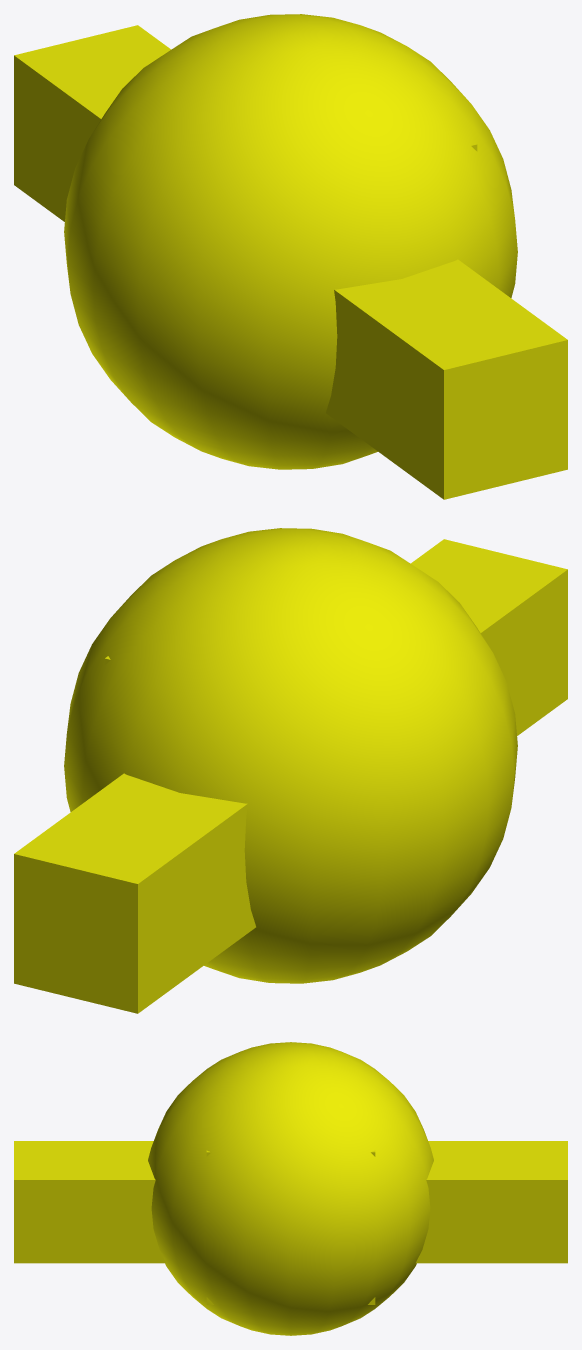
File: hee.fbx
3 renders of one model, top to bottom at view 1: azimuth 30°, elevation 25°; view 2: azimuth 150°, elevation 25°; view 3: azimuth 270°, elevation 25°, orthographic. The views are drawn at different scales.
Visible parts, largest first — view 1: pSphere1, pCube2; view 2: pSphere1, pCube2; view 3: pSphere1, pCube2.
Boxes of the visible parts, box(x1,y1,x2,y2) form: pSphere1: box(64, 14, 517, 469); pCube2: box(14, 25, 567, 499); pSphere1: box(64, 528, 517, 983); pCube2: box(14, 539, 567, 1013); pSphere1: box(148, 1042, 433, 1335); pCube2: box(14, 1141, 567, 1263).
Bounding box in the file's own units: 3.19 × 3.19 × 6.01.
